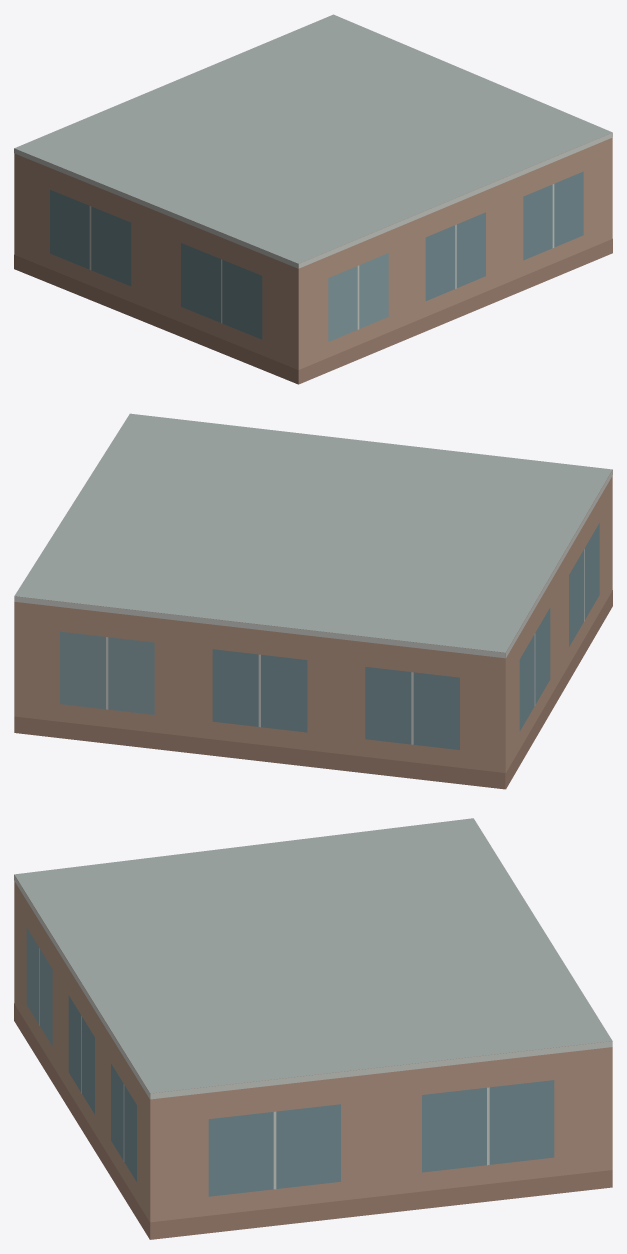
File: survey-upis-32985915.glb
The picture shows the model from 3 angles, top to bottom: view 1: azimuth 30°, elevation 25°; view 2: azimuth 150°, elevation 25°; view 3: azimuth 270°, elevation 25°; orthographic projection. The views are drawn at different scales.
Visible parts, largest first — view 1: survey-upis-32985915.tmp; view 2: survey-upis-32985915.tmp; view 3: survey-upis-32985915.tmp.
Boxes of the visible parts, x1,y1,x2,y2 form: survey-upis-32985915.tmp: (14,14,612,384); survey-upis-32985915.tmp: (14,413,612,789); survey-upis-32985915.tmp: (14,818,612,1239).
Bounding box in the file's own units: 12.32 × 3.05 × 11.31.
